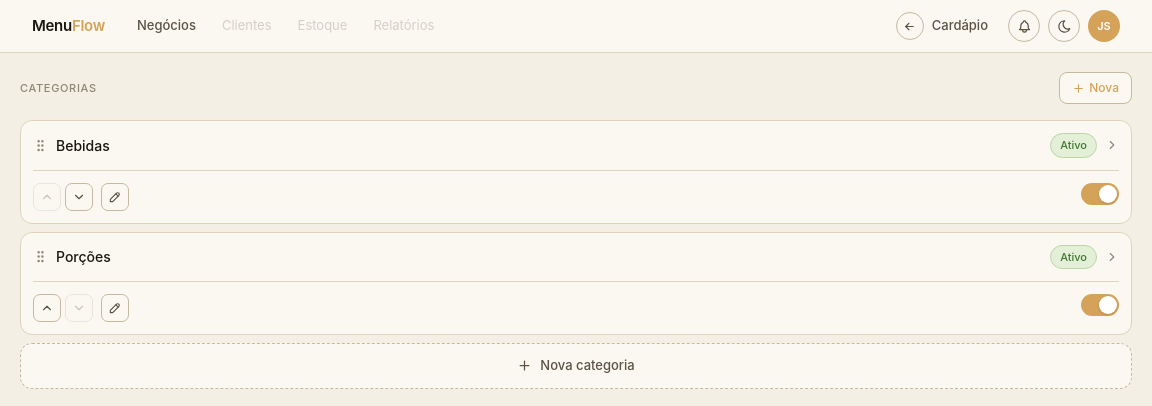
Scenario: MenuCategories — editar › cancela edição ao clicar em X
Click the button with test id "btn-edit-c1": (115, 196) x1=101 y1=182 x2=129 y2=210
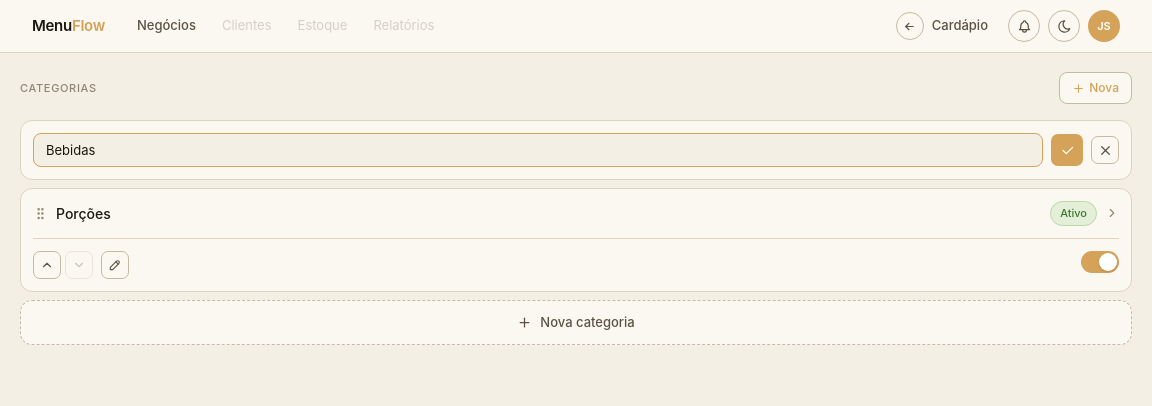
Click the button with test id "btn-cancel-edit": (1105, 150) x1=1091 y1=136 x2=1119 y2=164
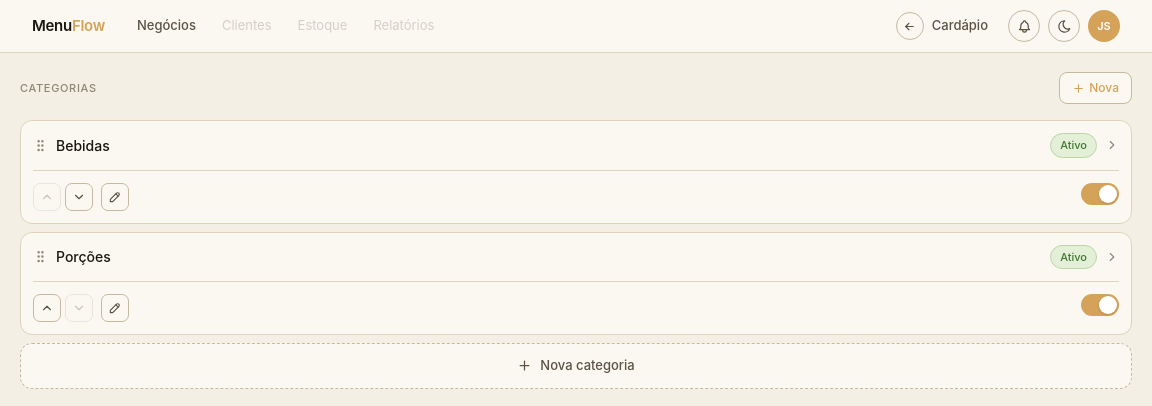
Now the field with test id "edit-input-c1" is gone
Now the text with test id "category-name-c1" reads "Bebidas", box x1=56 y1=137 x2=110 y2=154
